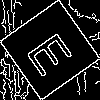E: (25, 25, 82, 79)
